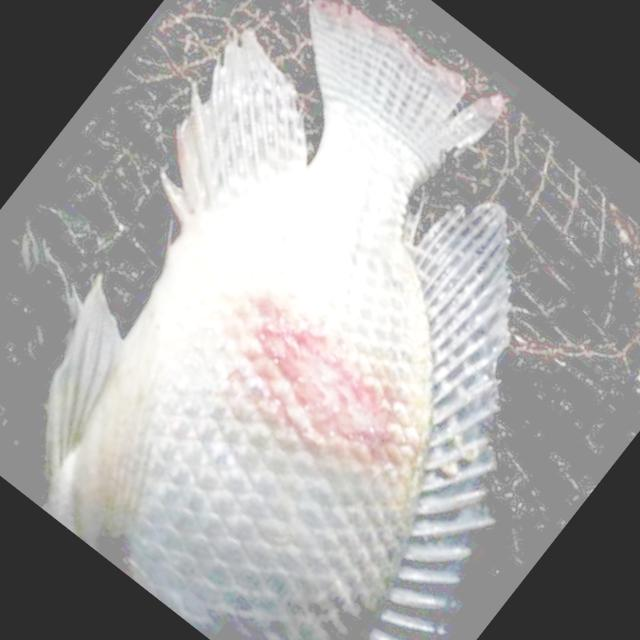Tilapia Lake Virus -TiLV-: (49, 0, 507, 640)
